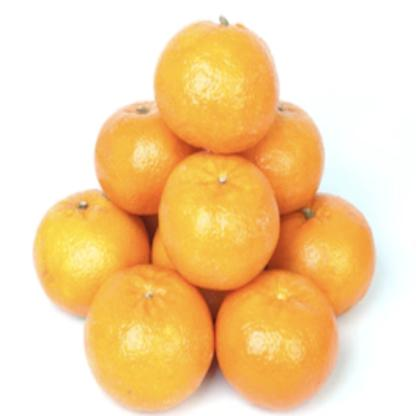fresh: (34, 17, 375, 412)
